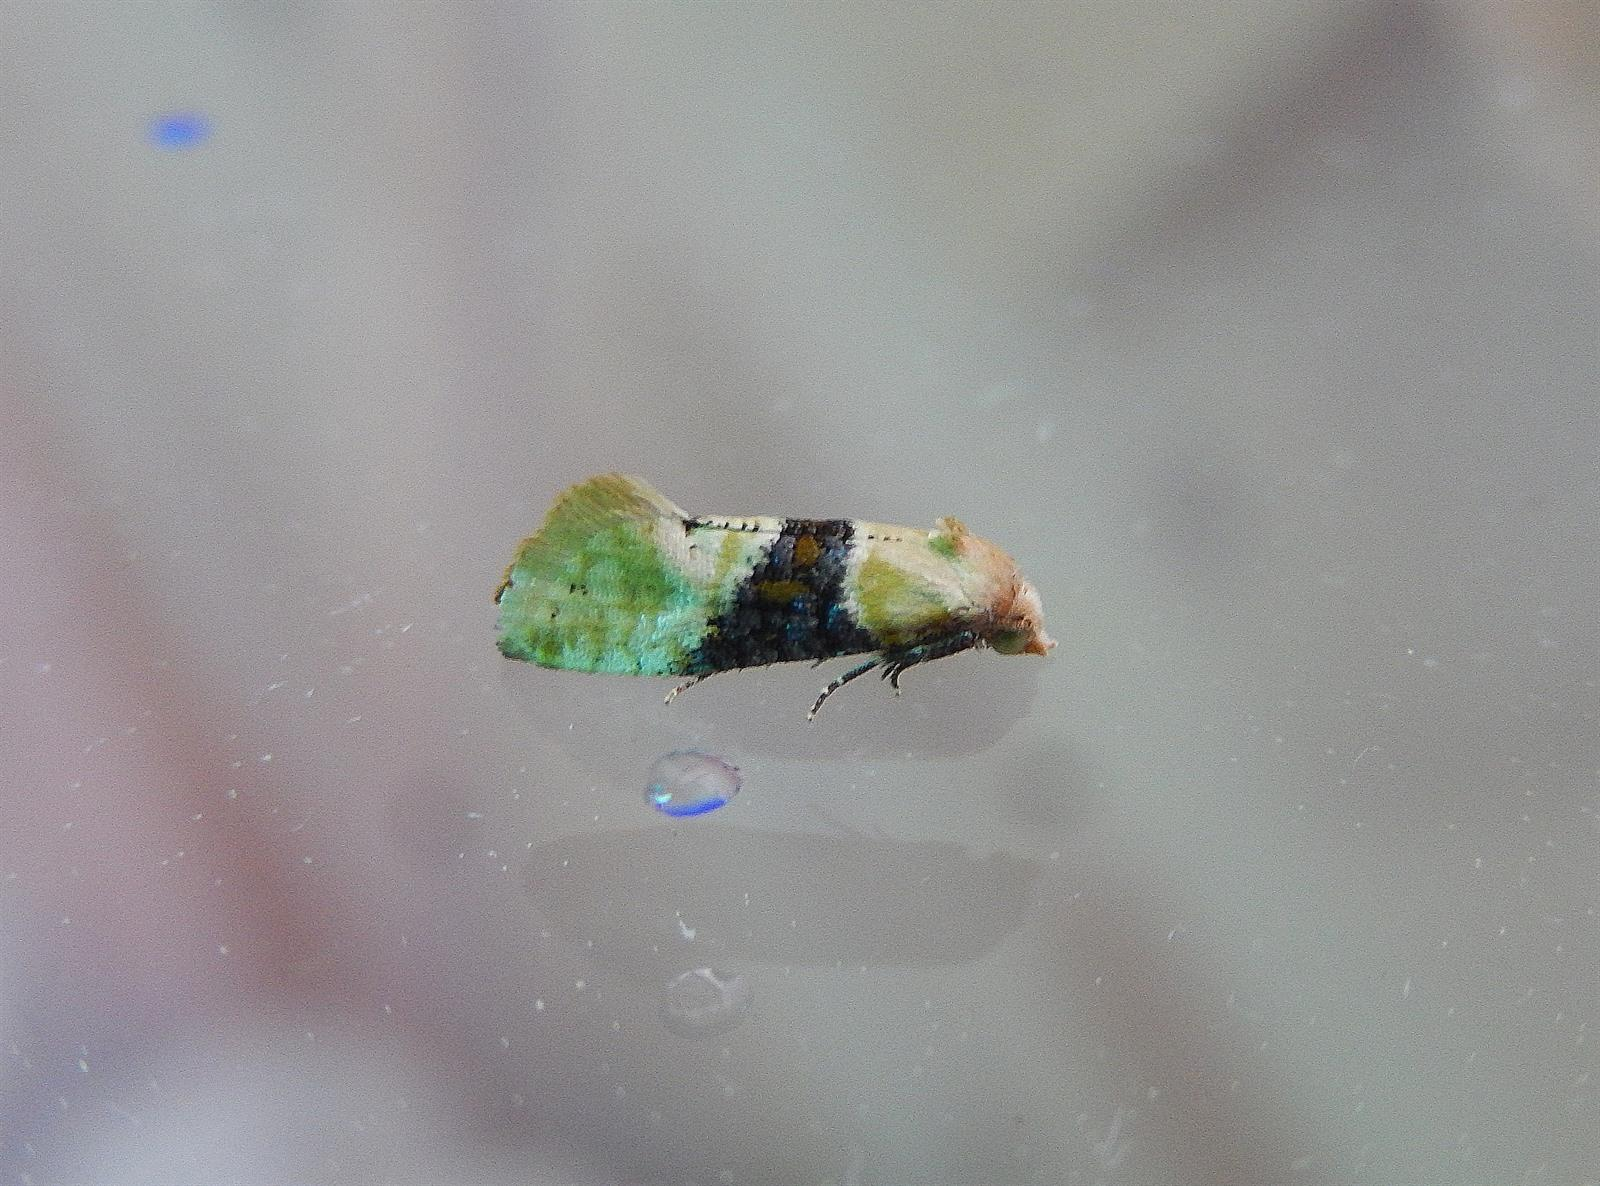Eupoecilia Ambiguella: (486, 463, 1060, 728)
